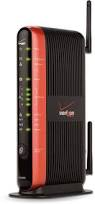Verizon Router: (10, 15, 94, 198)
